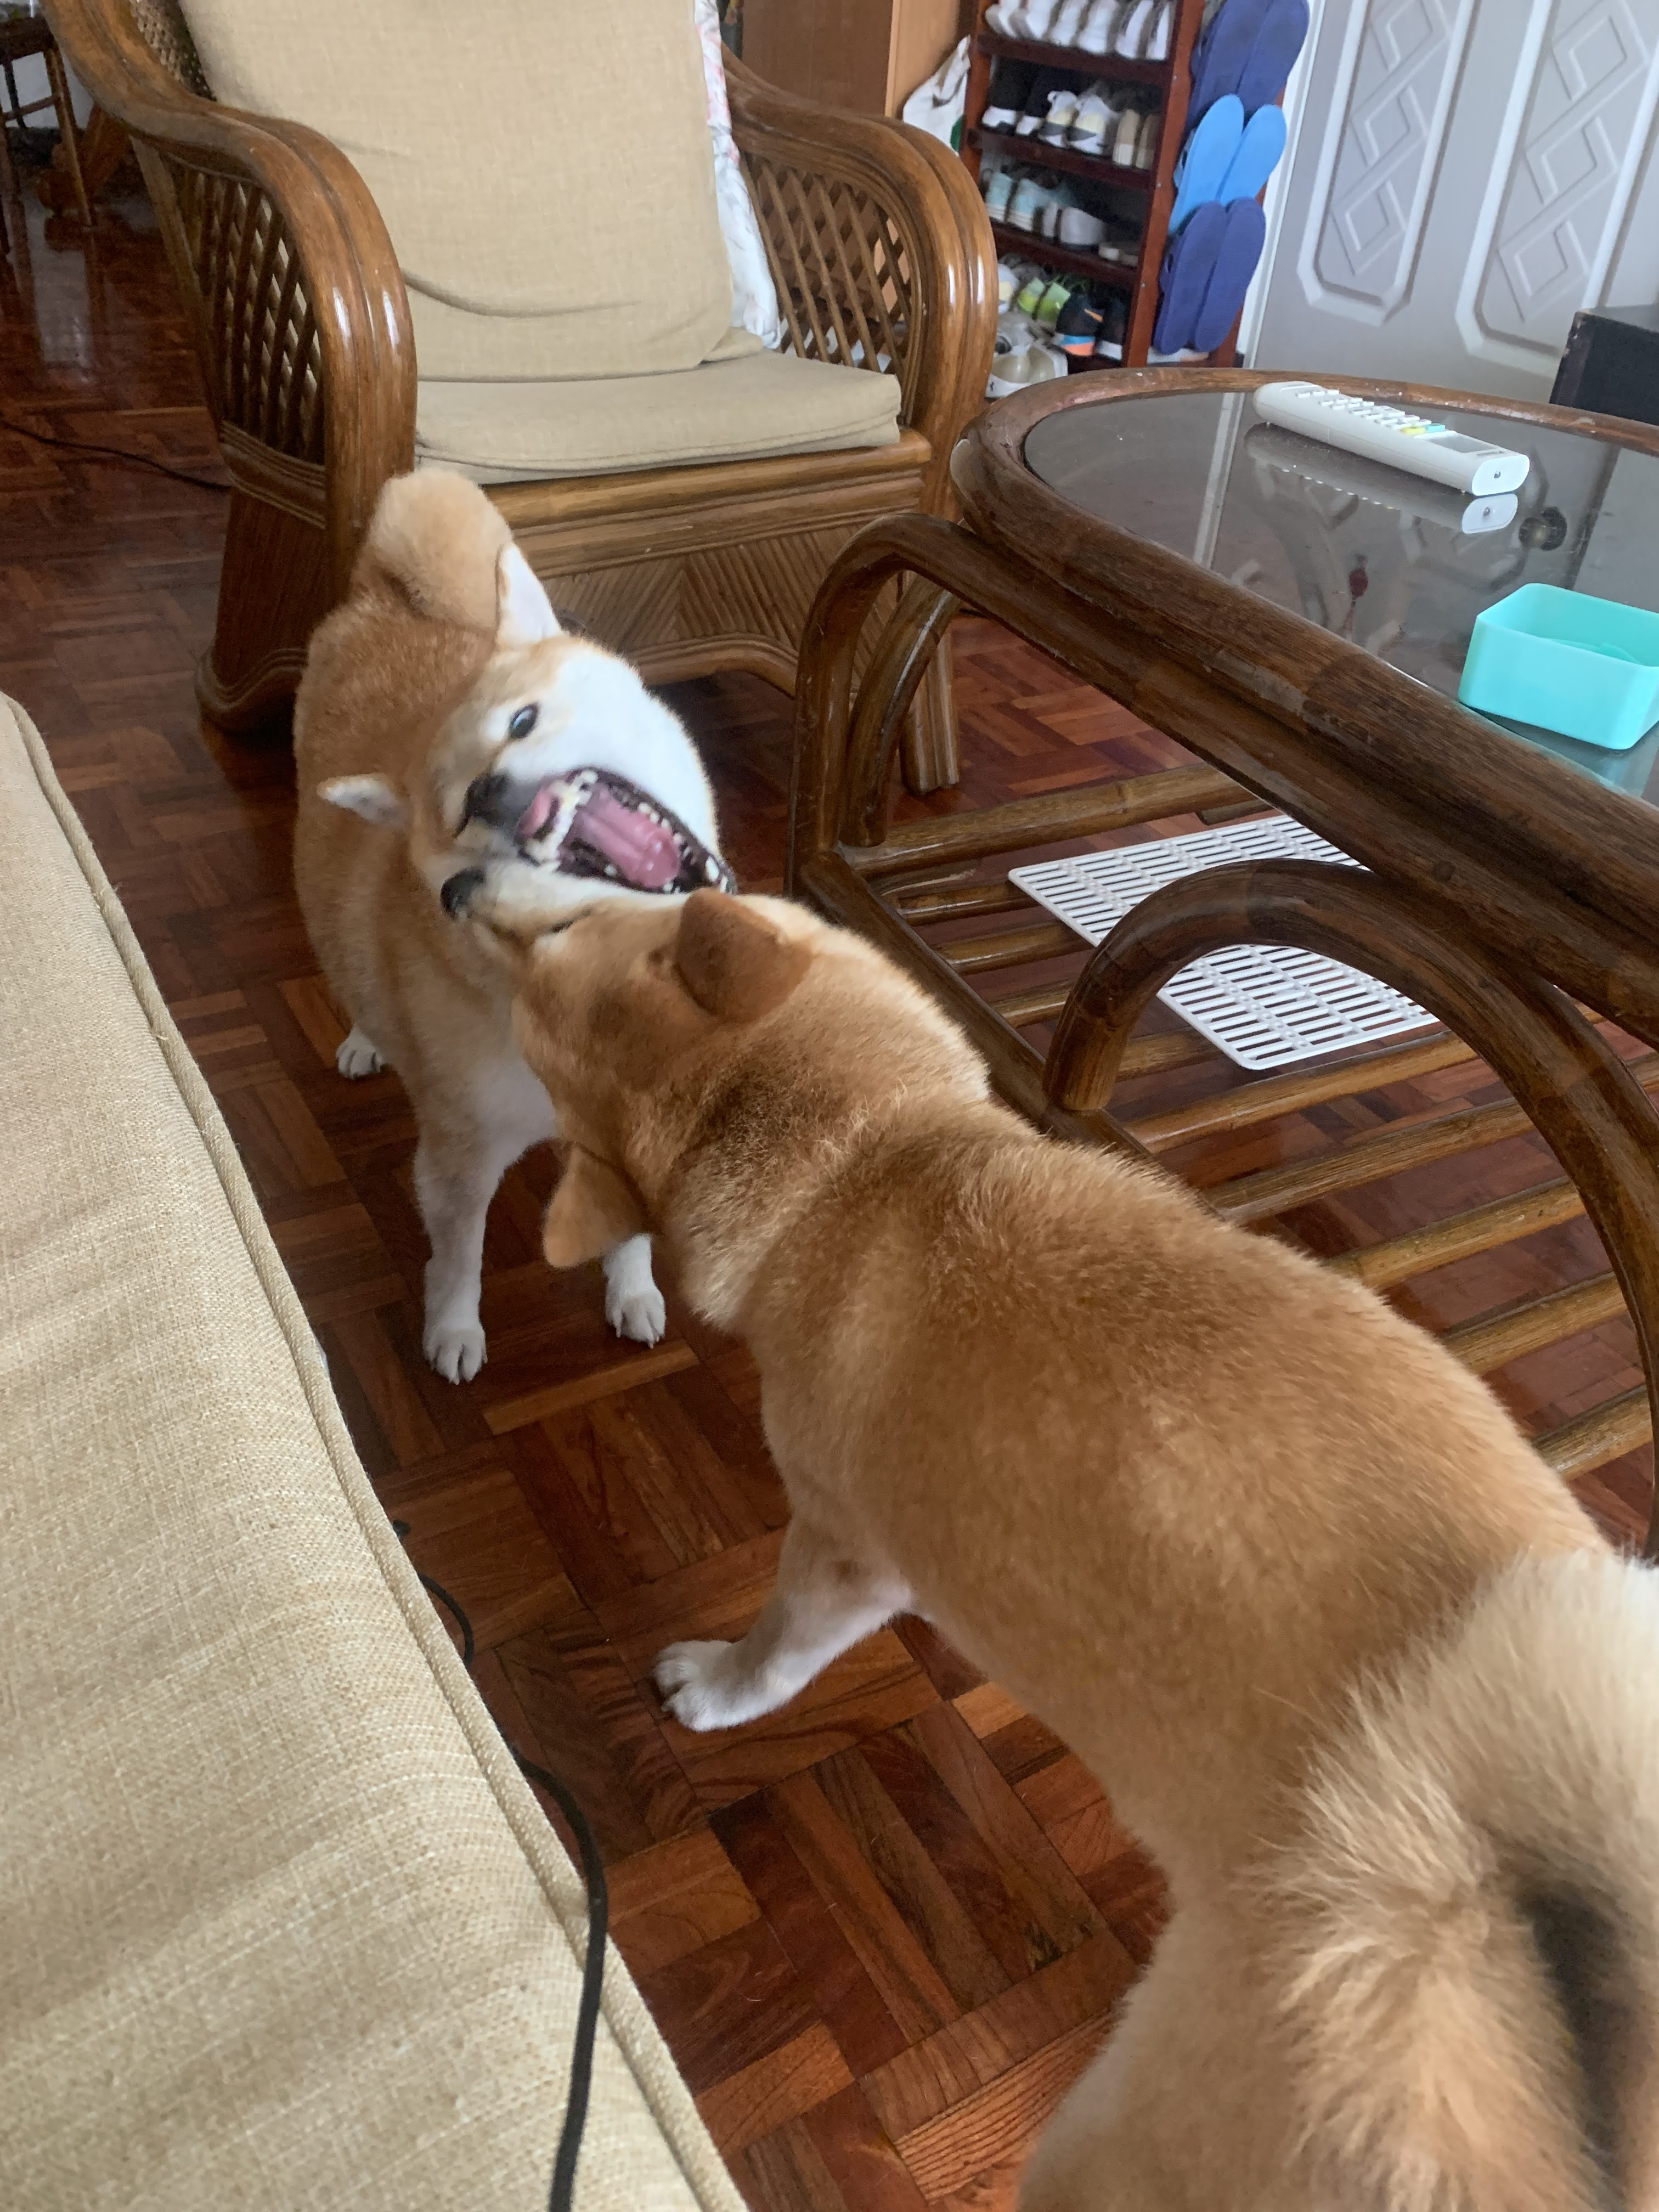Quarrel: (199, 430, 1659, 2212)
